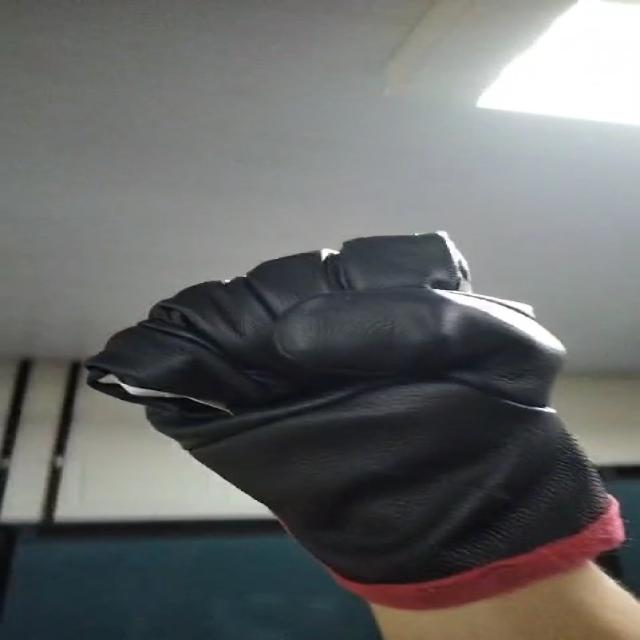Gloves: (83, 233, 640, 606)
